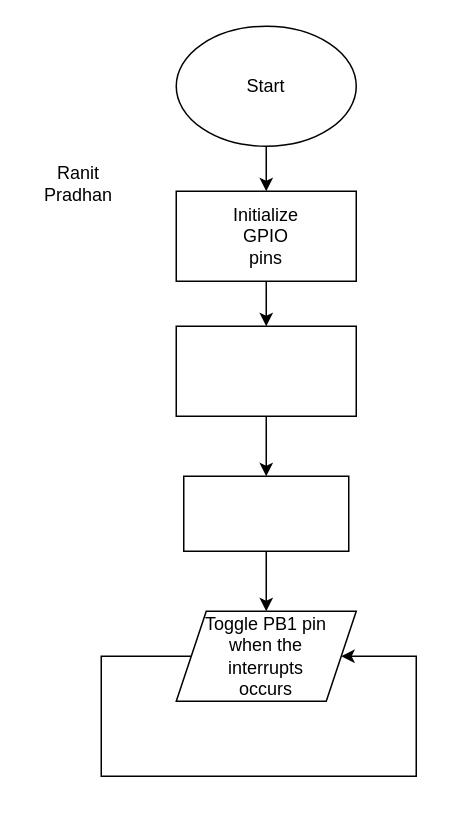
The diagram is 455 pixels wide and 815 high, and some of its shapes have lost their labels. Here are the shapes that lost their labels. From the top down, the centre of each, then its label:
At point 265,370: "Set Prescaler 800 and Counter 280".
At point 265,513: "Start Timer".
